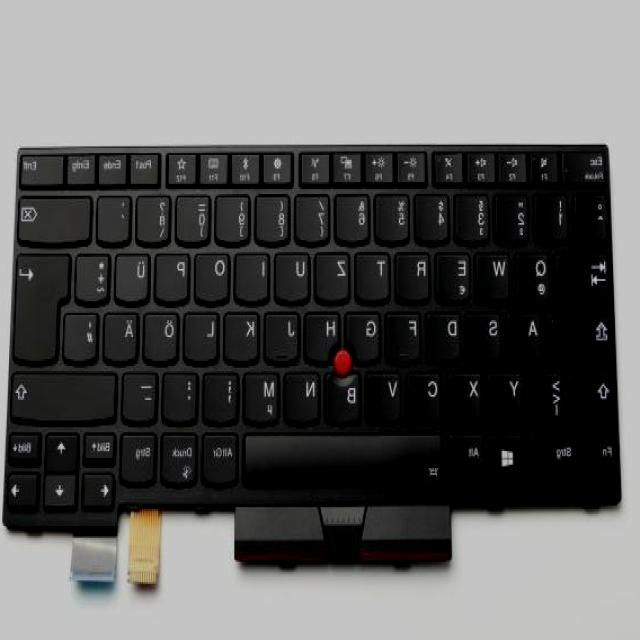0: (177, 191, 213, 241)
1: (535, 191, 570, 241)
2: (496, 191, 532, 241)
3: (457, 191, 493, 241)
4: (416, 189, 452, 240)
5: (377, 191, 413, 241)
6: (337, 191, 372, 242)
7: (298, 191, 333, 241)
8: (257, 191, 292, 242)
9: (217, 191, 253, 242)
a: (508, 308, 544, 361)
accent: (98, 191, 132, 242)
ae: (105, 308, 141, 361)
alt-left: (451, 429, 487, 482)
altgr-right: (204, 429, 241, 483)
b: (327, 369, 363, 422)
c: (408, 368, 445, 421)
caret: (576, 191, 610, 241)
comma: (204, 370, 241, 421)
d: (428, 308, 463, 361)
del: (19, 193, 95, 244)
e: (437, 249, 473, 302)
enter: (16, 249, 71, 361)
f: (388, 308, 424, 361)
g: (348, 308, 382, 359)
h: (307, 308, 343, 359)
hash: (66, 308, 101, 361)
i: (237, 249, 272, 300)
j: (266, 308, 302, 361)
k: (226, 308, 262, 361)
keyboard: (5, 142, 623, 530)
l: (186, 308, 221, 361)
less: (531, 368, 567, 421)
m: (246, 369, 282, 422)
minus: (123, 370, 160, 421)
n: (286, 368, 322, 421)
o: (196, 249, 232, 302)
oe: (146, 308, 181, 361)
p: (157, 249, 193, 302)
plus: (77, 249, 113, 302)
point: (165, 370, 201, 421)
q: (517, 249, 553, 302)
r: (397, 249, 433, 302)
s: (469, 308, 505, 361)
shift-left: (572, 370, 618, 421)
shift-lock: (549, 308, 615, 359)
shift-right: (11, 368, 121, 421)
space: (244, 429, 447, 485)
ss: (138, 192, 173, 242)
strg-left: (532, 429, 580, 482)
strg-right: (121, 429, 158, 487)
t: (357, 249, 392, 300)
tab: (558, 249, 612, 300)
u: (276, 249, 312, 302)
ue: (117, 249, 152, 302)
v: (369, 370, 404, 421)
w: (478, 247, 513, 301)
x: (450, 370, 485, 421)
y: (489, 370, 525, 421)
z: (317, 249, 353, 302)
